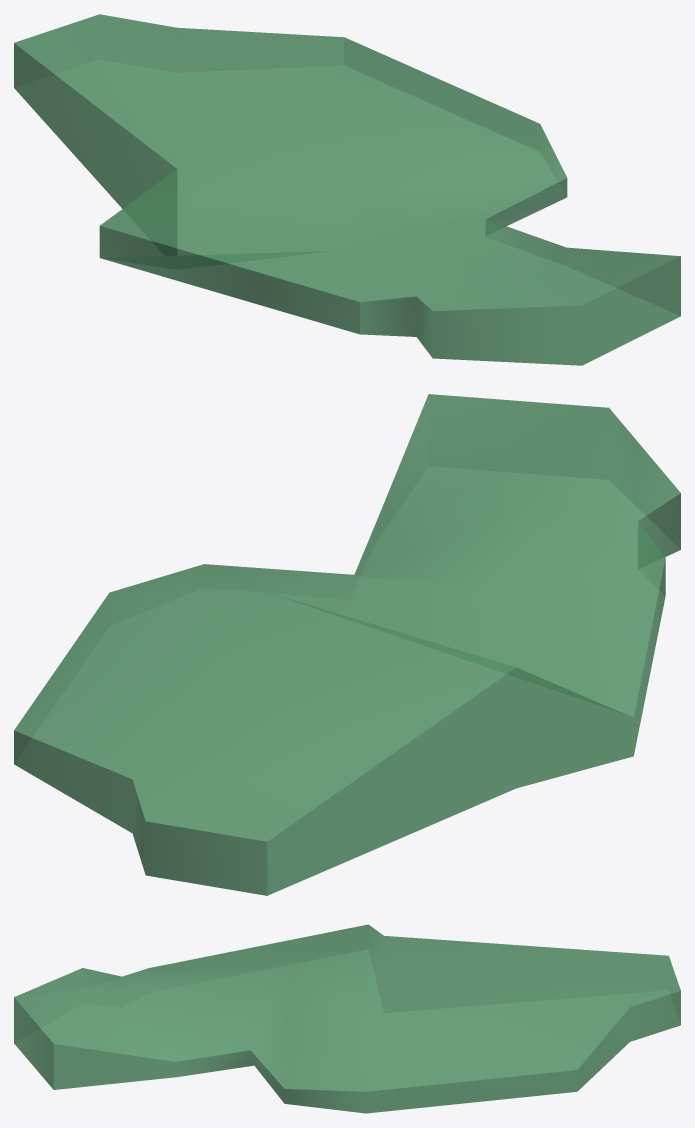
Rendered from Scree_02_Collider_A.fbx.
The picture shows the model from 3 angles, top to bottom: view 1: azimuth 30°, elevation 25°; view 2: azimuth 150°, elevation 25°; view 3: azimuth 270°, elevation 25°; orthographic projection. The views are drawn at different scales.
Visible parts, largest first — view 1: Scree_02_Collider_A; view 2: Scree_02_Collider_A; view 3: Scree_02_Collider_A.
Boxes of the visible parts, box(x1,y1,x2,y2) form: Scree_02_Collider_A: box(14, 14, 680, 365); Scree_02_Collider_A: box(14, 394, 680, 895); Scree_02_Collider_A: box(14, 924, 680, 1113).
Size of the model in its own units: 1183 by 260 by 2029.
